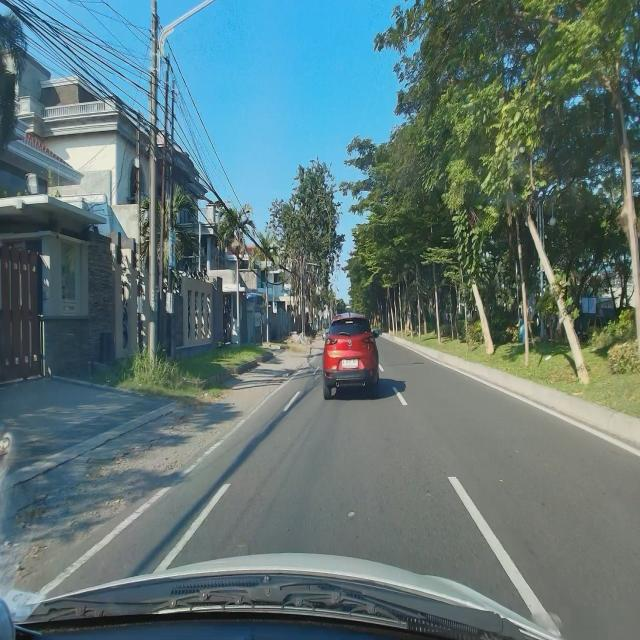car: (322, 311, 379, 402)
license-plate: (342, 357, 359, 370)
